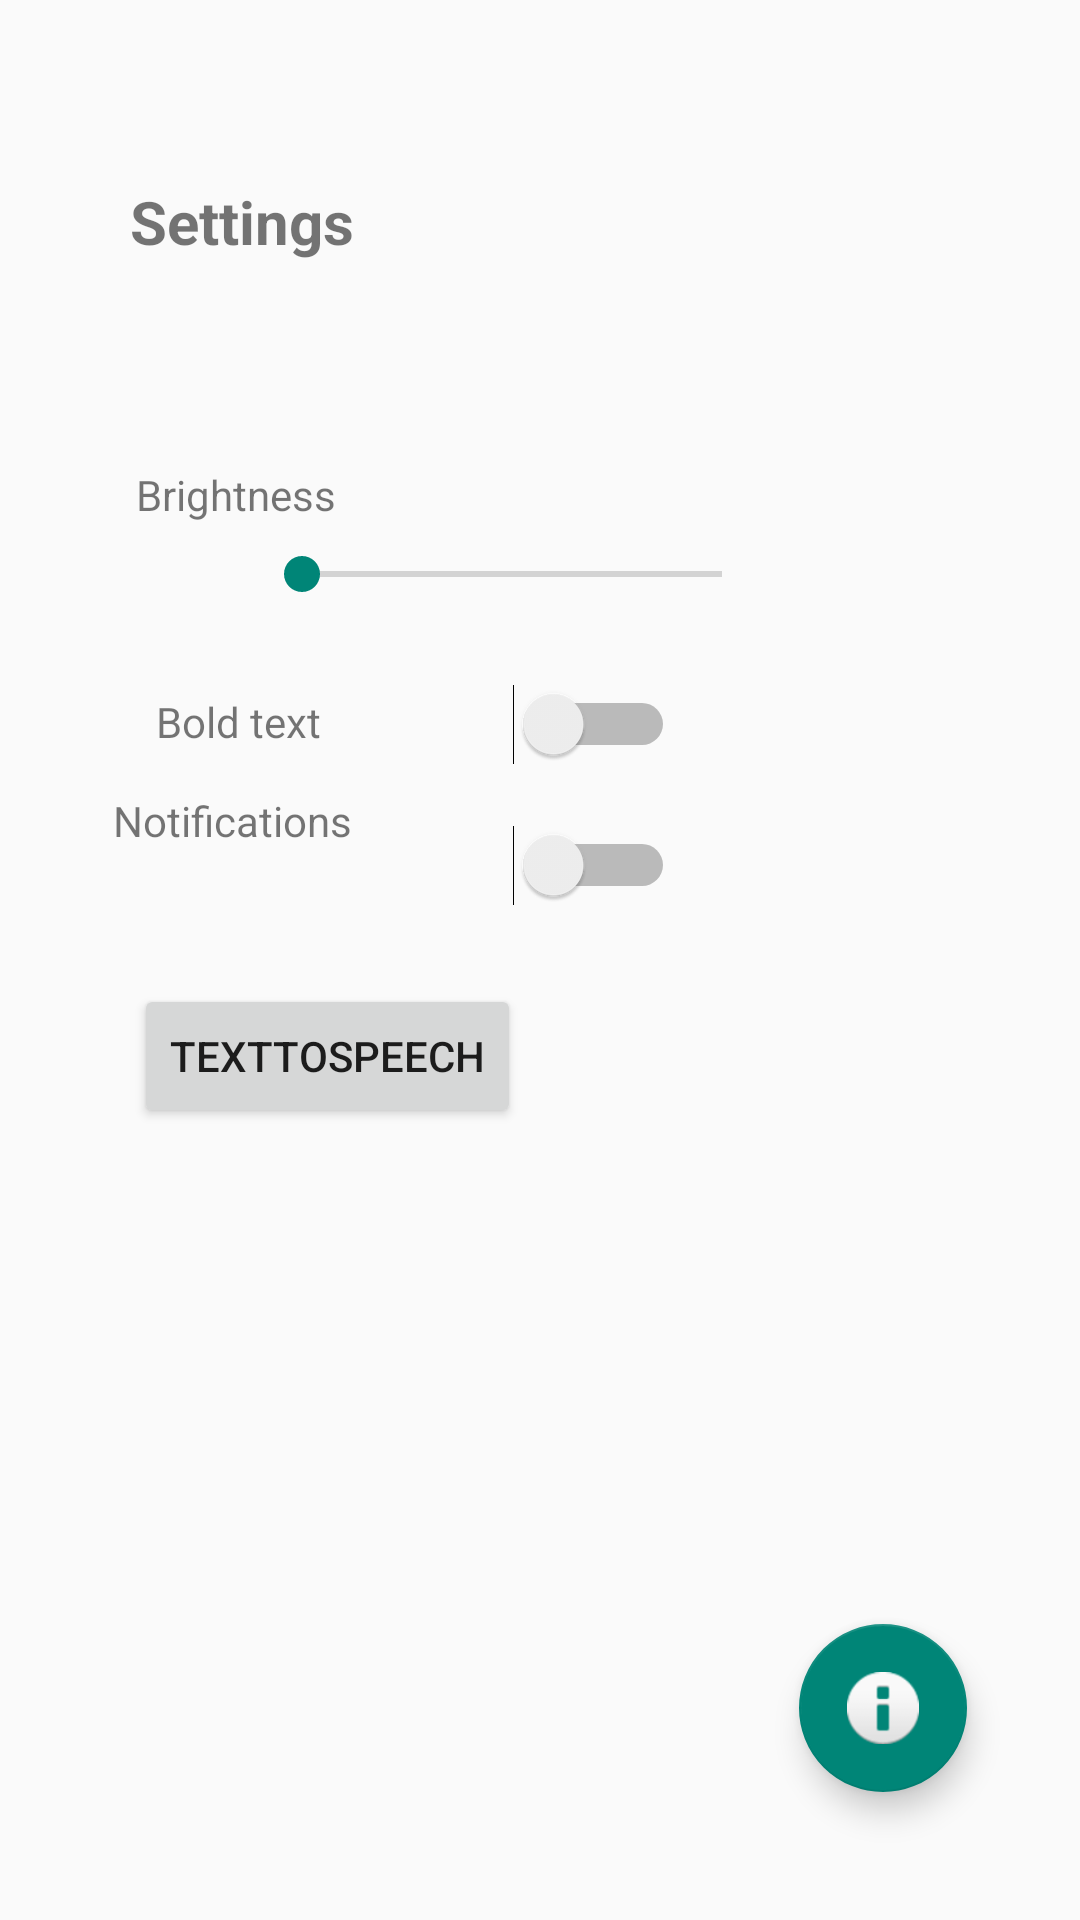

Point at icon controls on the screen. Image size 1080px×1920px, points as (x,y).
info: (883,1708)
